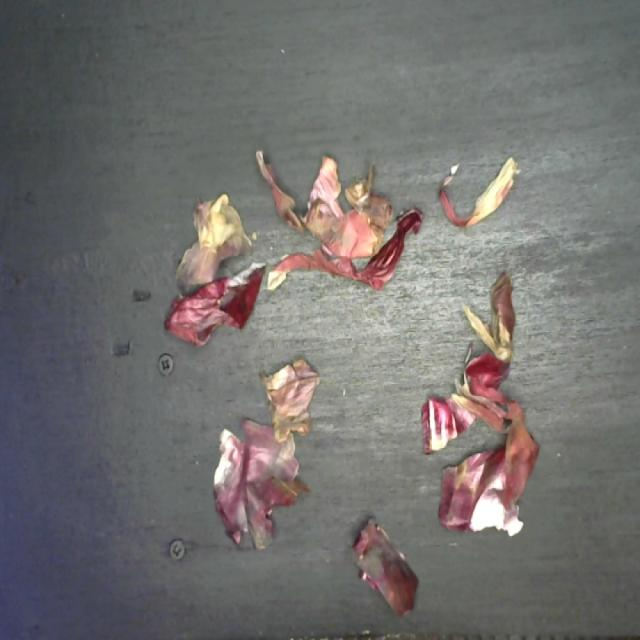biodegradable: (160, 141, 547, 626)
